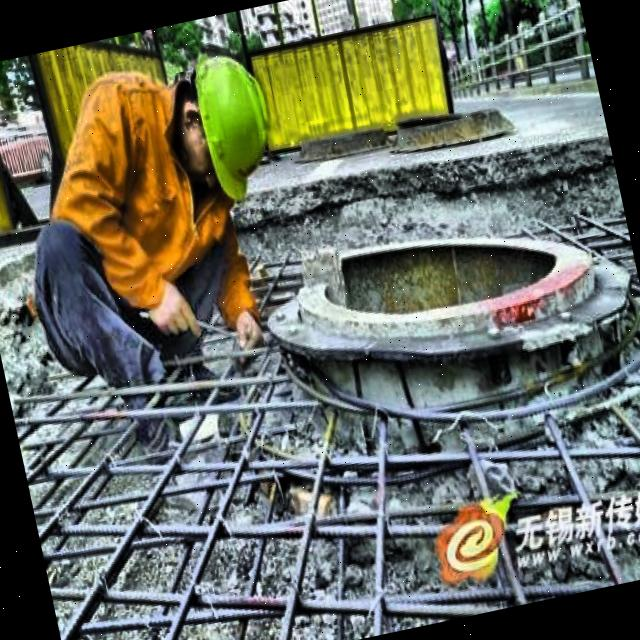helmet: (164, 41, 291, 208)
